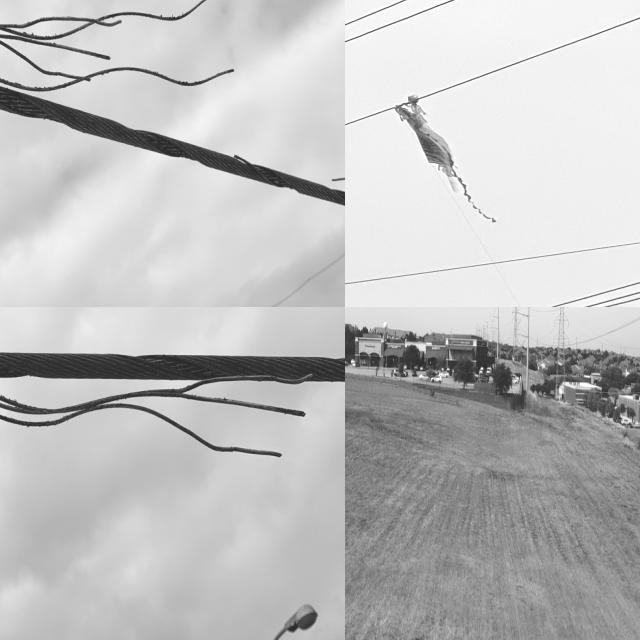杆塔: (547, 307, 572, 410)
植被遮挡: (391, 93, 503, 225)
电缆破损: (0, 0, 345, 225), (0, 366, 321, 476)
